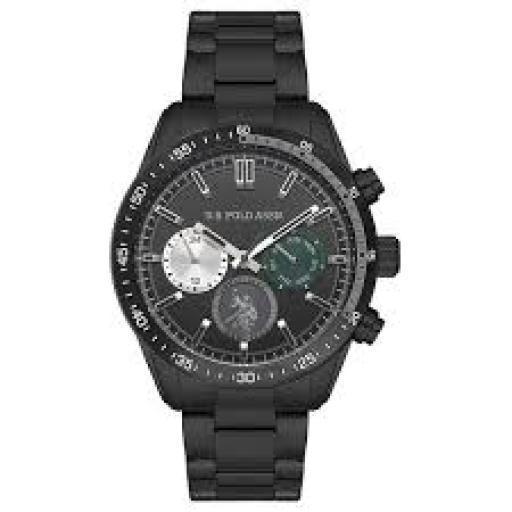KolSaati: (110, 6, 408, 512)
